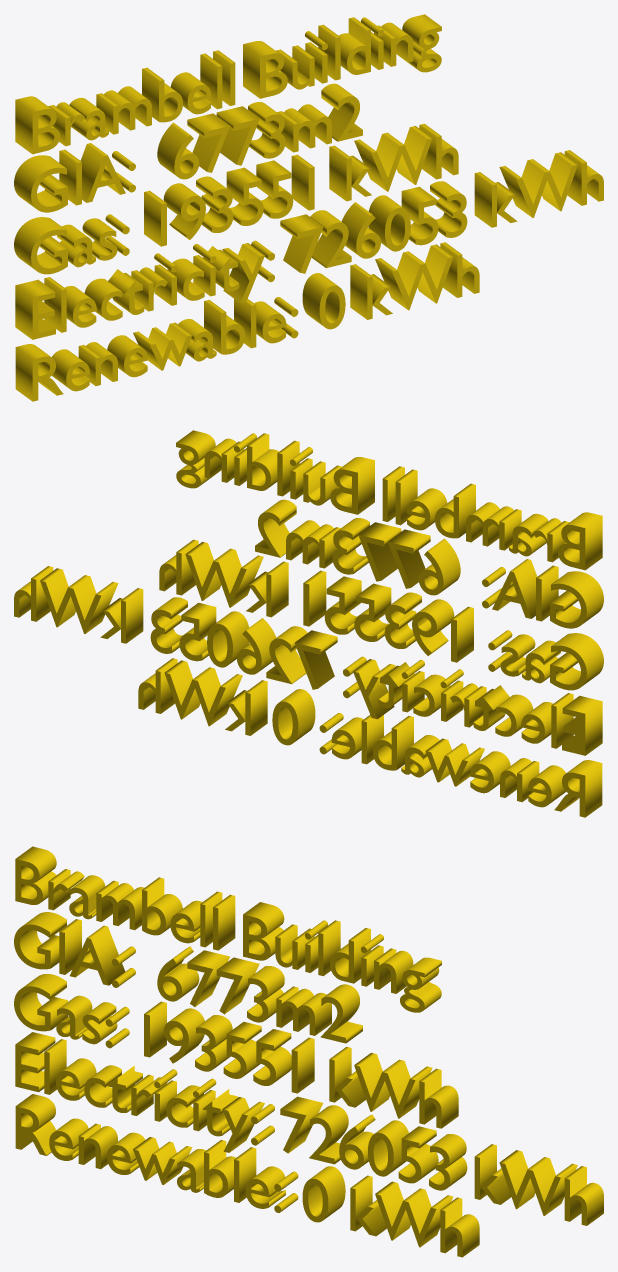
The model's file is Brambell.gltf.
The picture shows the model from 3 angles, top to bottom: view 1: azimuth 30°, elevation 25°; view 2: azimuth 150°, elevation 25°; view 3: azimuth 330°, elevation 25°; orthographic projection.
Parts seen in each view (by area): view 1: Text; view 2: Text; view 3: Text.
Boxes of the visible parts, x1=… form: Text: x1=14, y1=14, x2=603, y2=401; Text: x1=14, y1=430, x2=603, y2=817; Text: x1=14, y1=846, x2=603, y2=1257.
Bounding box in the file's own units: 9.7 × 4.69 × 0.5.
